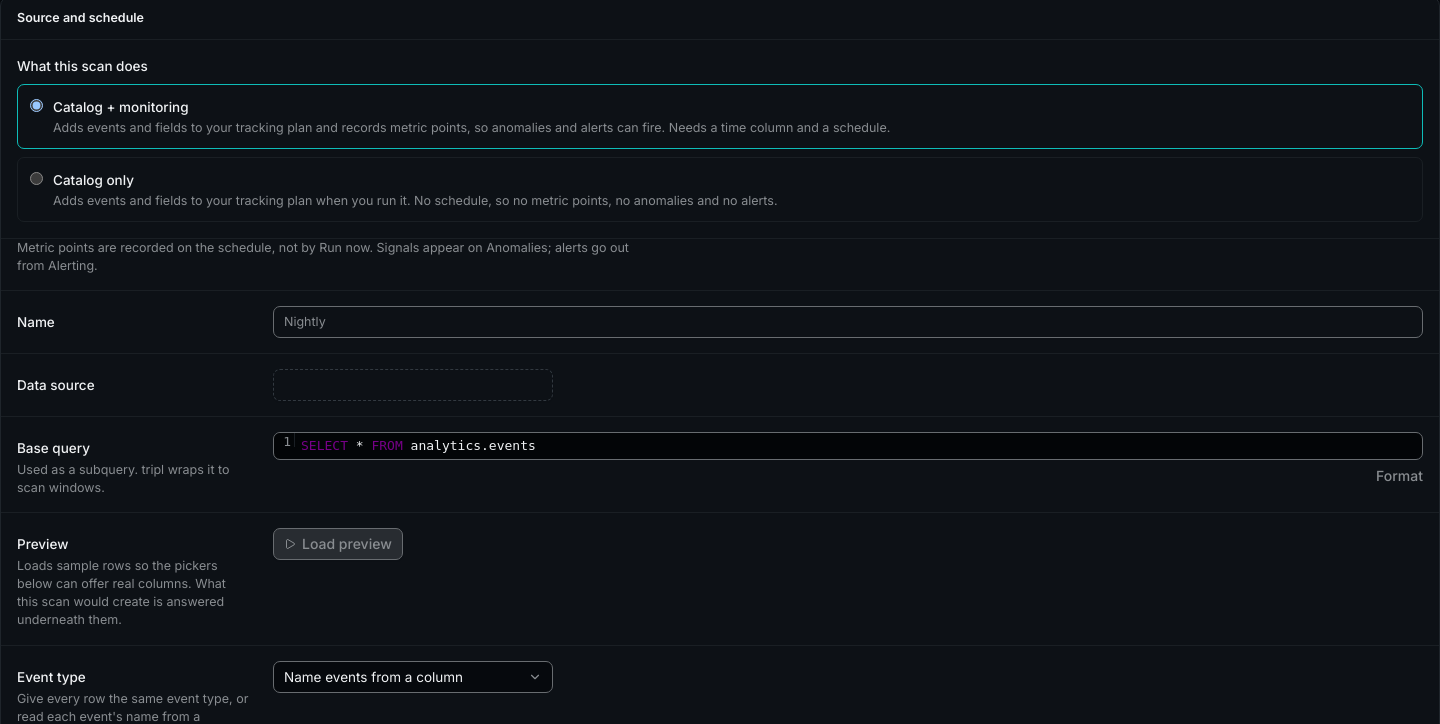
Test: ScanFormSections — the mode choice › hides the metrics row cap in Catalog only without discarding a saved one
Click the radio button labelled "Catalog only" at coordinates (36, 179), box [30, 172, 43, 185]
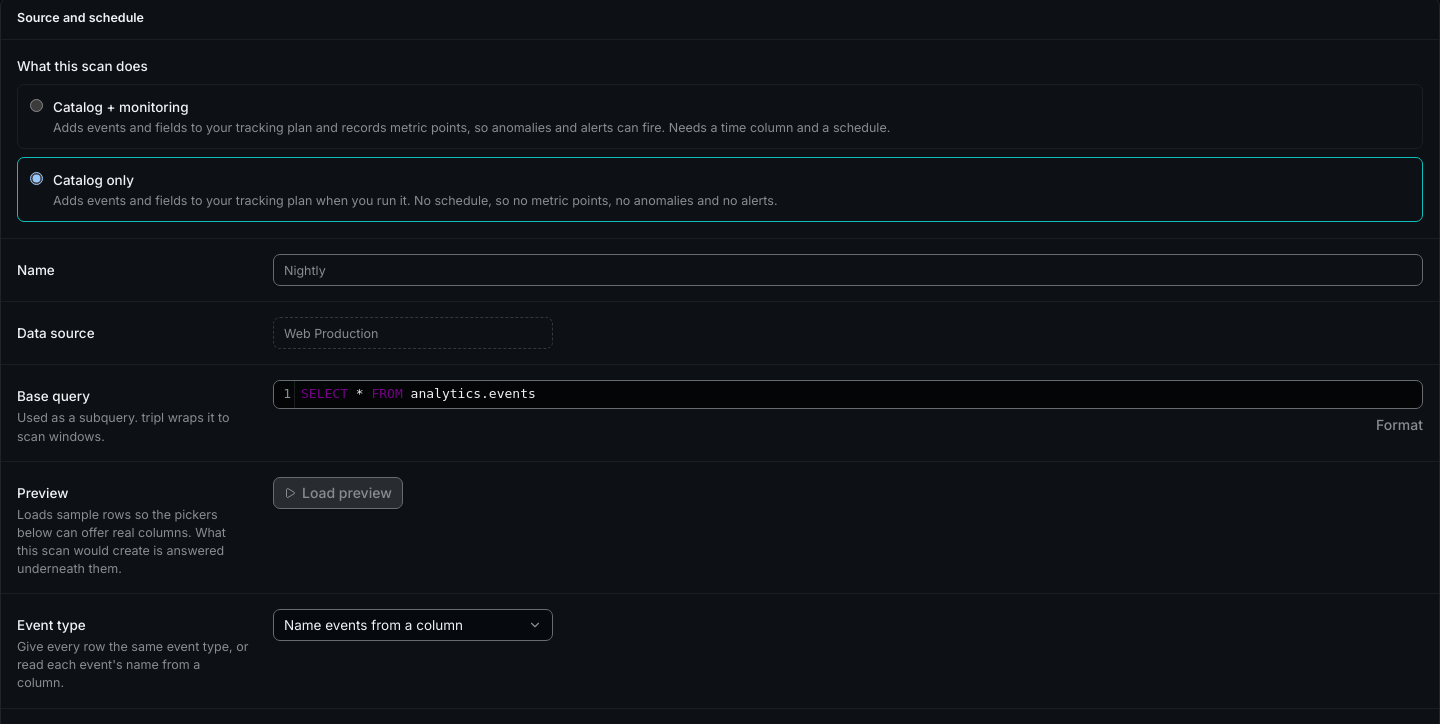
Check: the field labelled "Row cap per metrics run" is not shown
Switching back proves the 50,000 was kept in state, not thrown away.
Click the radio button labelled "Catalog + monitoring" at coordinates (36, 106), box [30, 99, 43, 112]
(page scrolled)
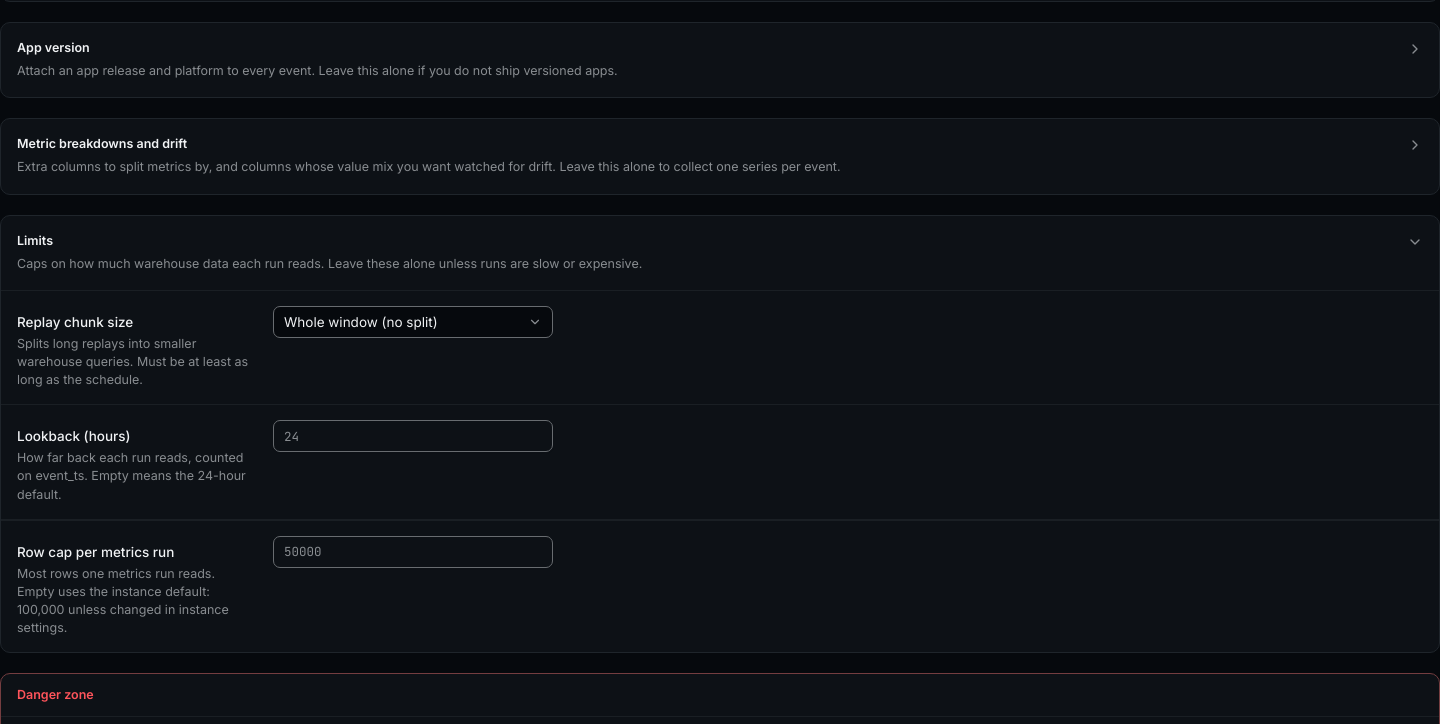
Check: the number field labelled "Row cap per metrics run" holds "50000", box [273, 536, 553, 568]
